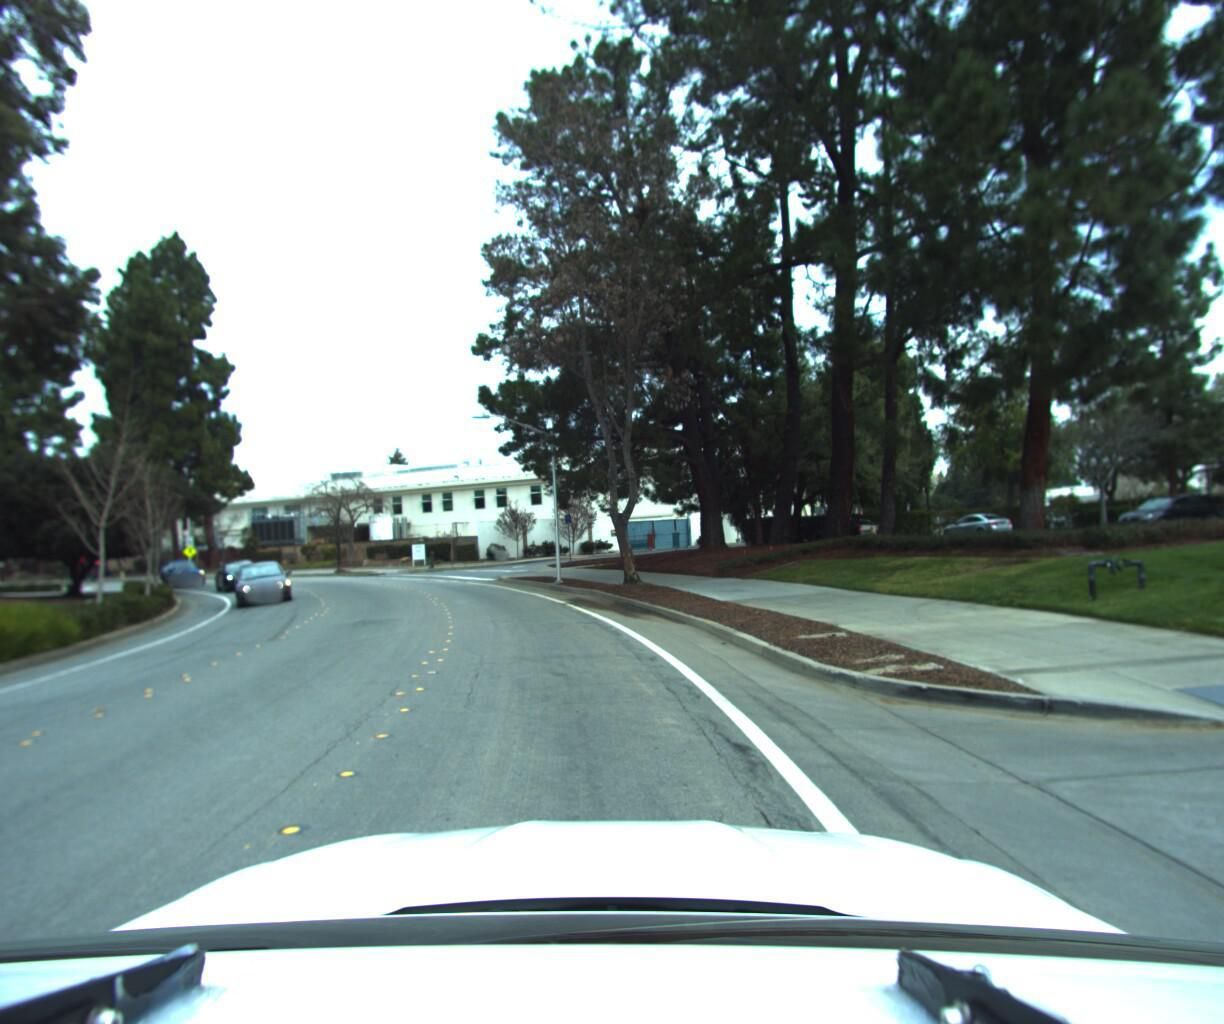car: (236, 552, 296, 606), (212, 555, 267, 590), (155, 554, 207, 586)
